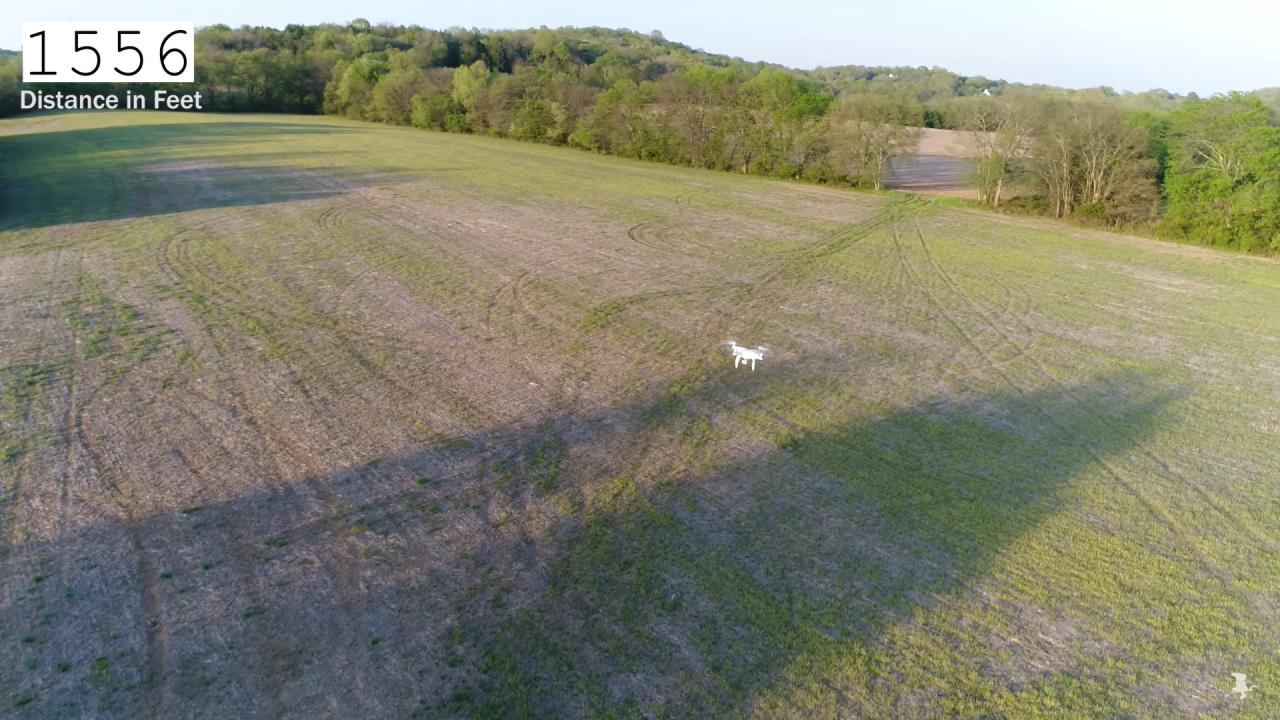Drone: (716, 330, 776, 379)
